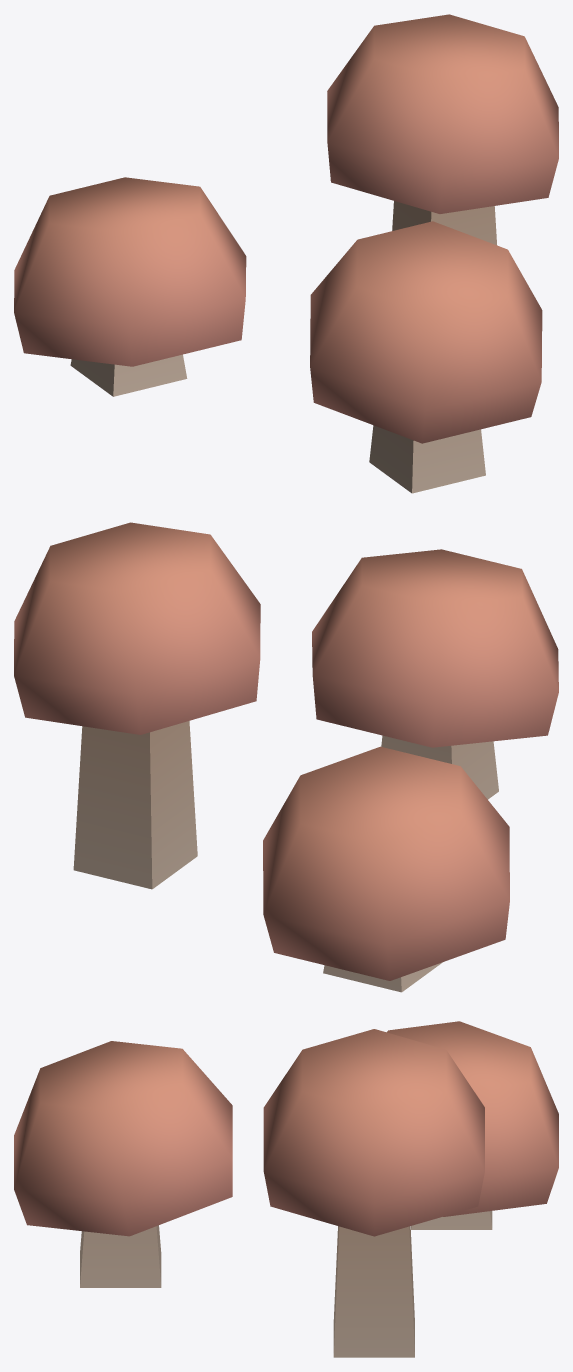
The model's file is mushrooms.glb.
The picture shows the model from 3 angles, top to bottom: view 1: azimuth 30°, elevation 25°; view 2: azimuth 150°, elevation 25°; view 3: azimuth 270°, elevation 25°; orthographic projection. The views are drawn at different scales.
Visible parts, largest first — view 1: mushrooms; view 2: mushrooms; view 3: mushrooms.
Boxes of the visible parts, <box> form: mushrooms: <box>14,14,558,493</box>; mushrooms: <box>14,522,558,992</box>; mushrooms: <box>14,1021,558,1357</box>.
Size of the model in its own units: 0.5222 by 0.2892 by 0.5119.
